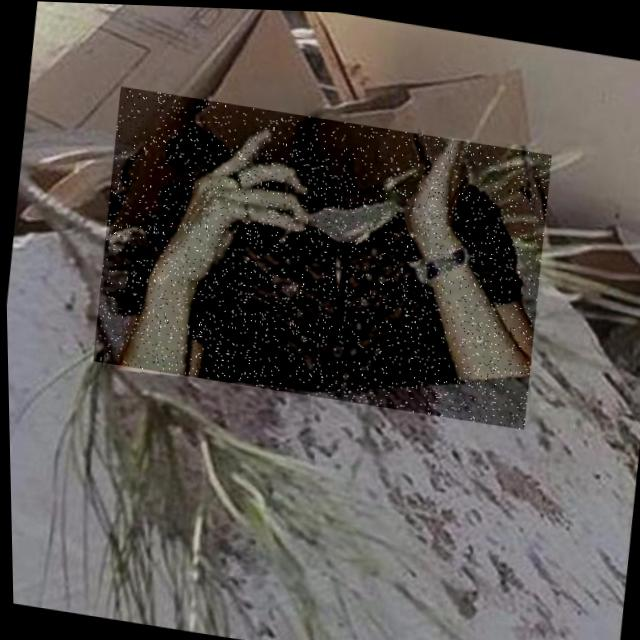Person in Rubble: (86, 84, 556, 426)
